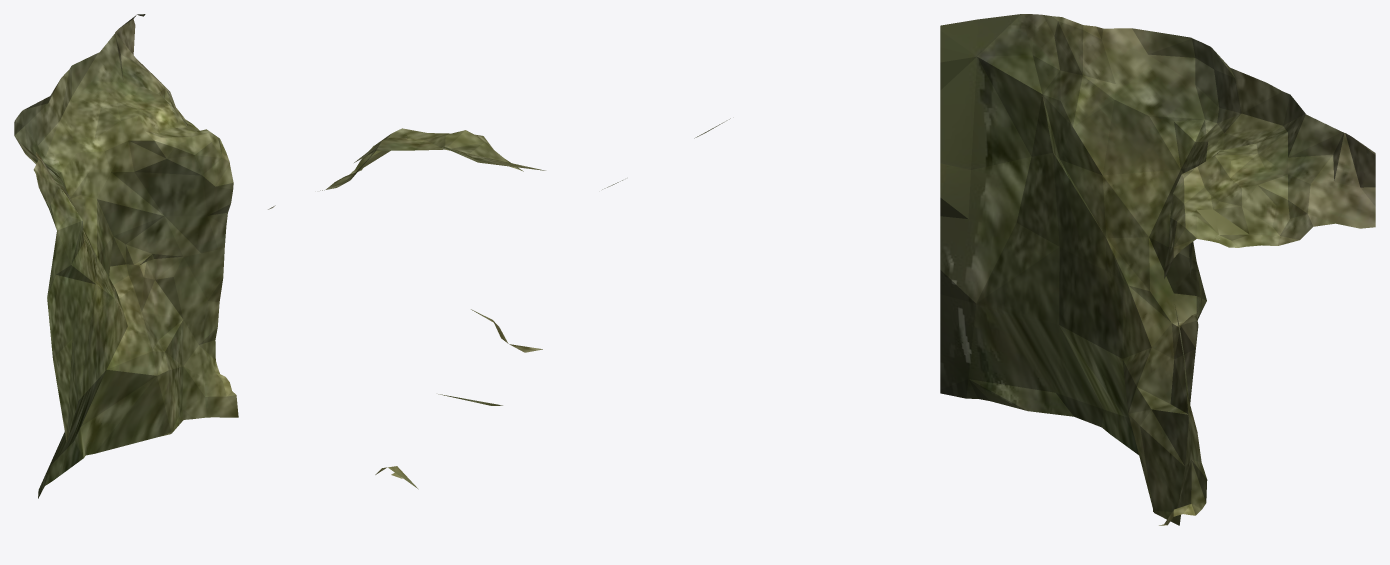
3 renders of one model, left to right at view 1: azimuth 30°, elevation 25°; view 2: azimuth 150°, elevation 25°; view 3: azimuth 270°, elevation 25°, orthographic. The views are drawn at different scales.
Size of the model in its own units: 2.53 by 2.95 by 2.95.
3 materials, 3 textured.
